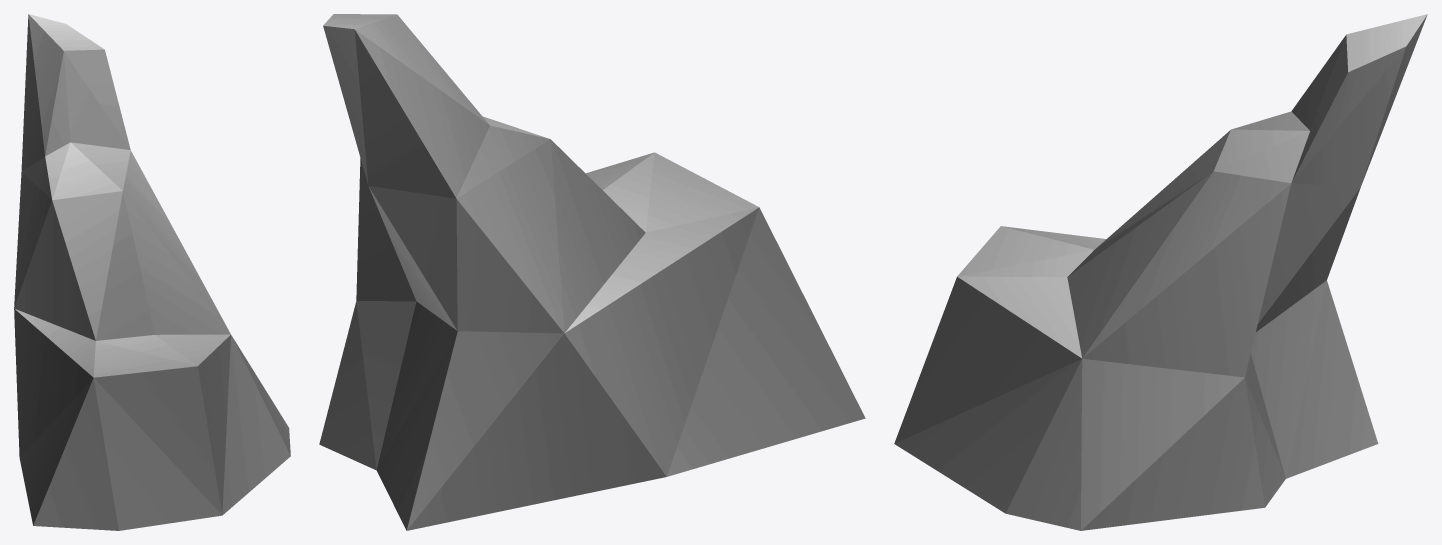
The model's file is GL-Rock-04-LOD2.fbx.
The picture shows the model from 3 angles, left to right: view 1: azimuth 30°, elevation 25°; view 2: azimuth 150°, elevation 25°; view 3: azimuth 270°, elevation 25°; orthographic projection. The views are drawn at different scales.
Visible parts, largest first — view 1: GL_Rock_04; view 2: GL_Rock_04; view 3: GL_Rock_04.
Part boxes in pixels (<box>): GL_Rock_04: <box>14,14,290,530</box>; GL_Rock_04: <box>319,14,865,530</box>; GL_Rock_04: <box>894,14,1427,530</box>.
Bounding box in the file's own units: 2.44 × 2.74 × 3.02.
